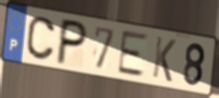7: (92, 25, 117, 72)
8: (182, 41, 206, 88)
C: (25, 15, 57, 63)
E: (116, 30, 151, 79)
K: (151, 34, 178, 85)
P: (53, 17, 90, 67)
